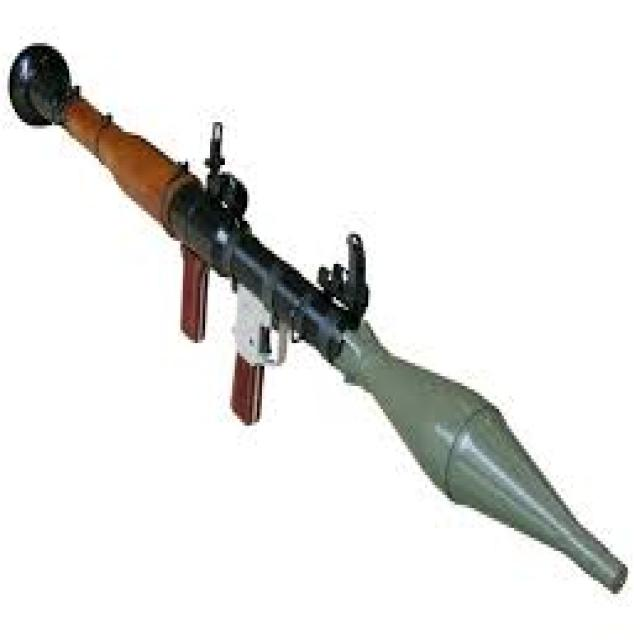bazooka: (4, 8, 640, 631)
